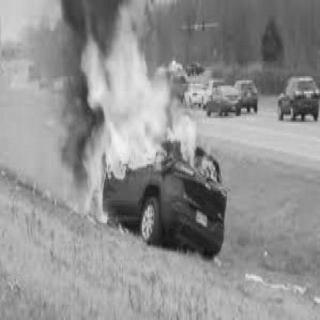Fire: (80, 1, 218, 211)
